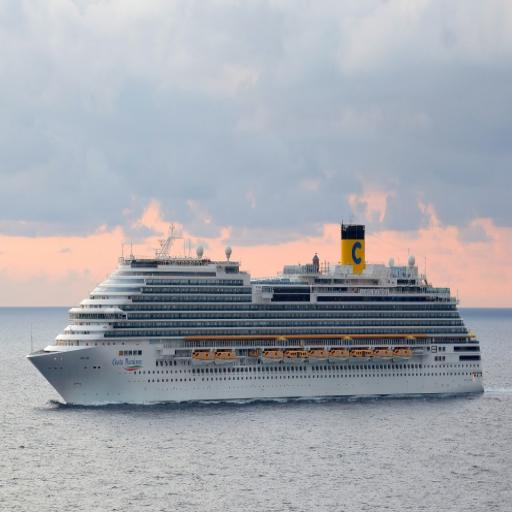cruises: (23, 222, 487, 419)
